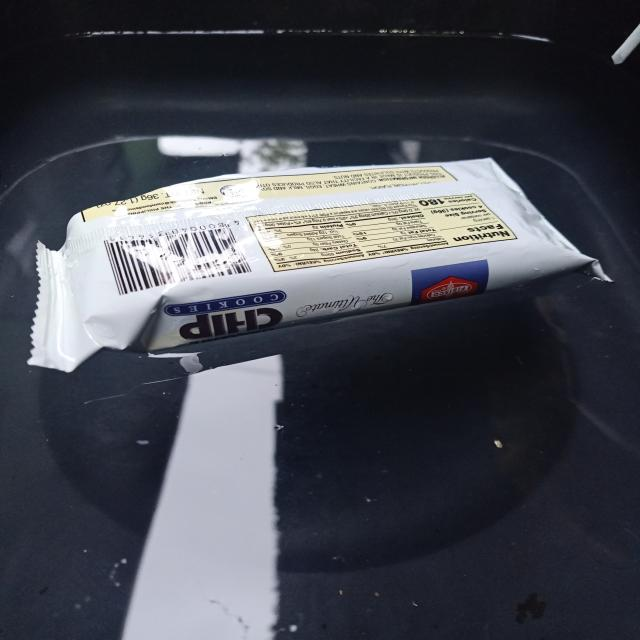Plastic Wrapper: (30, 159, 609, 371), (336, 247, 342, 251)
